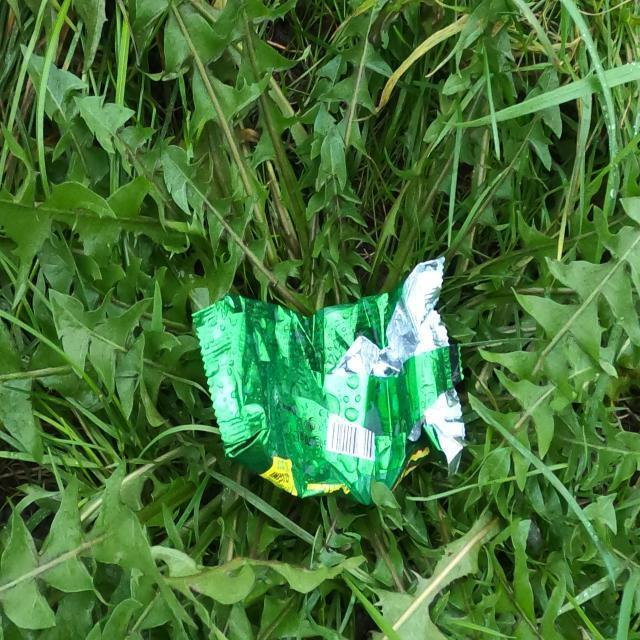Plastic: (189, 250, 468, 512)
